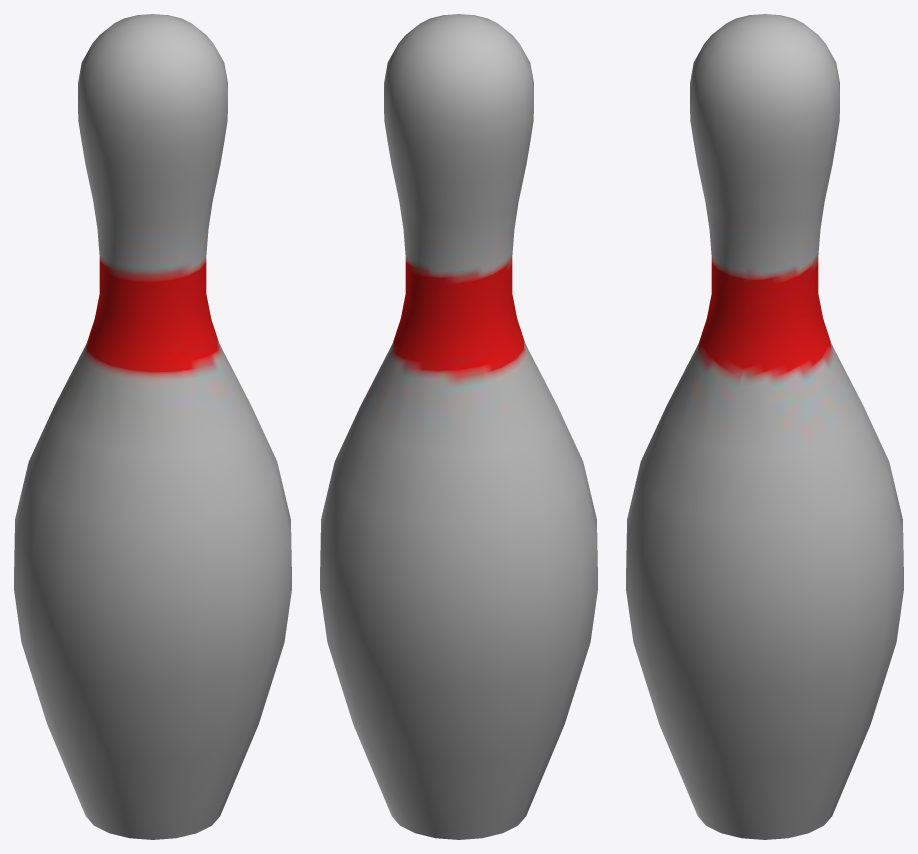
Rendered from PinModel.fbx.
3 renders of one model, left to right at view 1: azimuth 30°, elevation 25°; view 2: azimuth 150°, elevation 25°; view 3: azimuth 270°, elevation 25°, orthographic.
Visible parts, largest first — view 1: PinModel; view 2: PinModel; view 3: PinModel.
Part boxes in pixels (x1,y1,x2,y2): PinModel: (14,14,291,839); PinModel: (320,14,597,839); PinModel: (626,14,903,839).
Bounding box in the file's own units: 8.07 × 24.95 × 7.95.
1 material, 1 textured.
